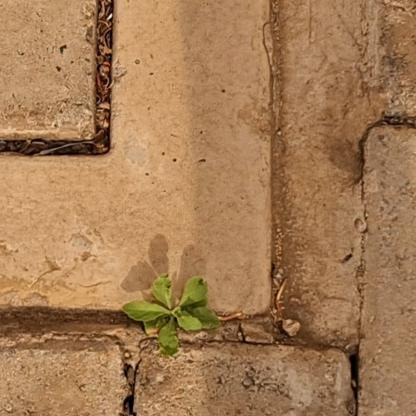Weeds: (122, 275, 223, 357)
